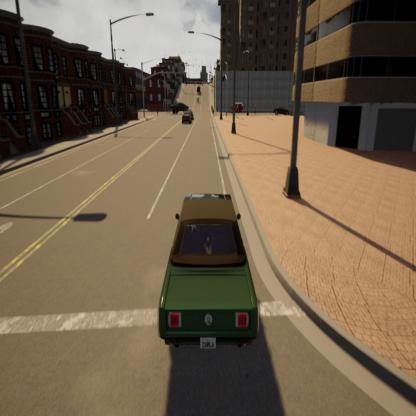Cars: (156, 182, 267, 362), (169, 102, 193, 114), (229, 99, 245, 114), (181, 108, 193, 127), (274, 104, 290, 116)
Pedestrian: (252, 102, 258, 115)
